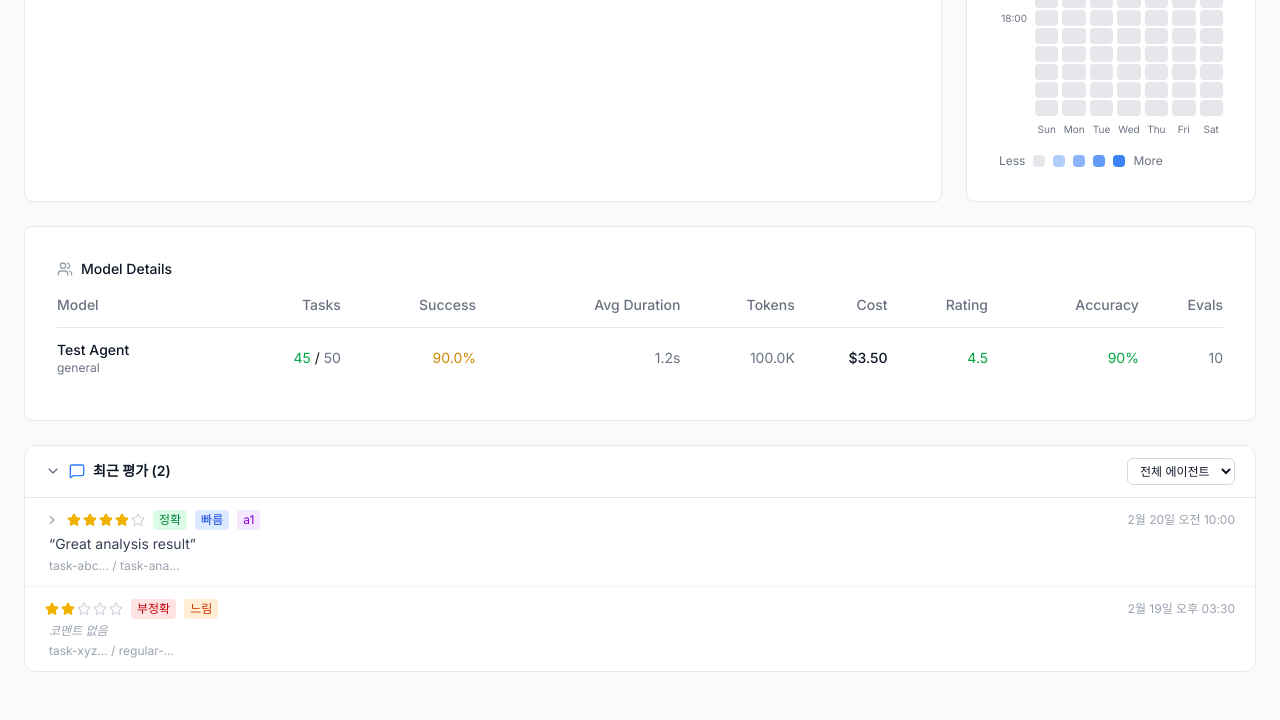
AnalyticsPage › toggles eval list visibility when header is clicked
(page scrolled)
Expected: the text "“Great analysis result”" is shown, [49,534,196,552]
// Click header to collapse
Click the heading "최근 평가 (2)" at (132, 471), box [93,461,171,481]
(page scrolled)
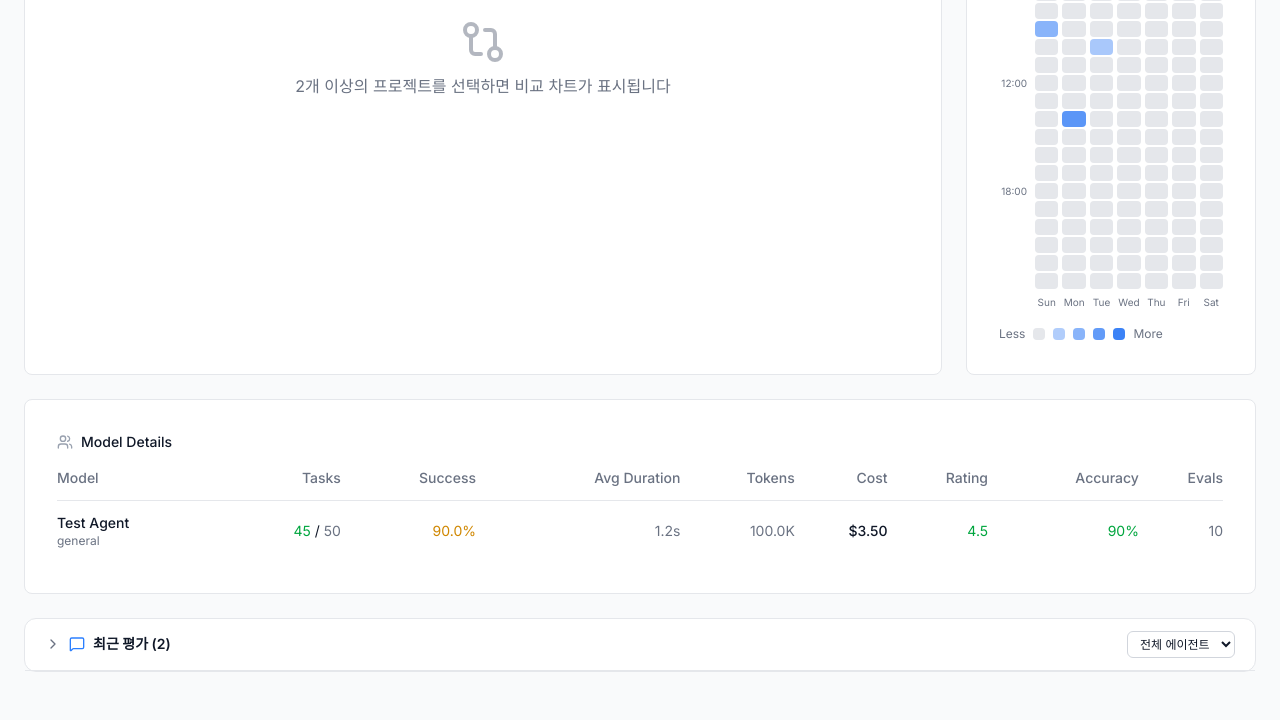
Now the text "Great analysis result" is gone
// Click again to expand
Click the heading "최근 평가 (2)" at (132, 644), box [93,634,171,654]
(page scrolled)
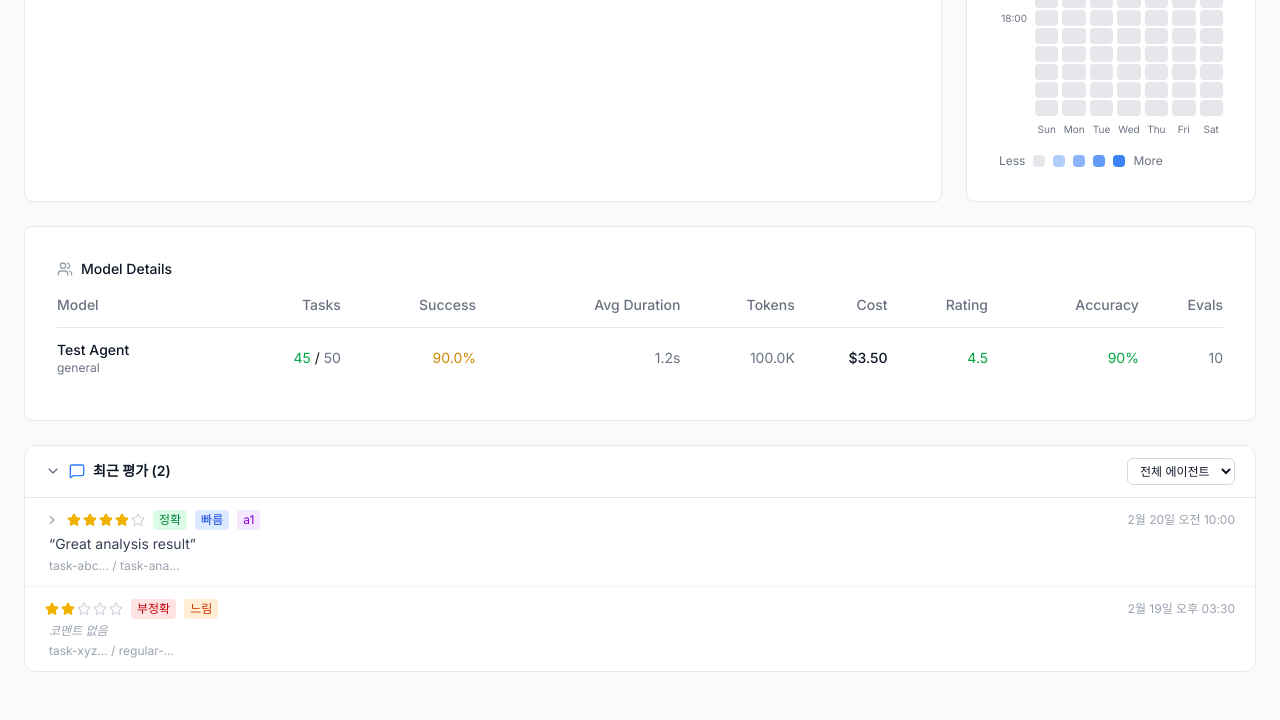
Now the text "“Great analysis result”" is shown, box [49,534,196,552]
